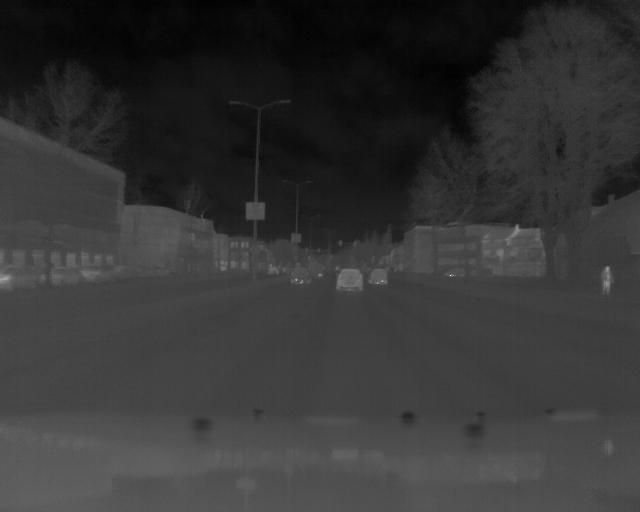car: (335, 263, 363, 296), (367, 264, 389, 290)
person: (598, 264, 614, 302)
